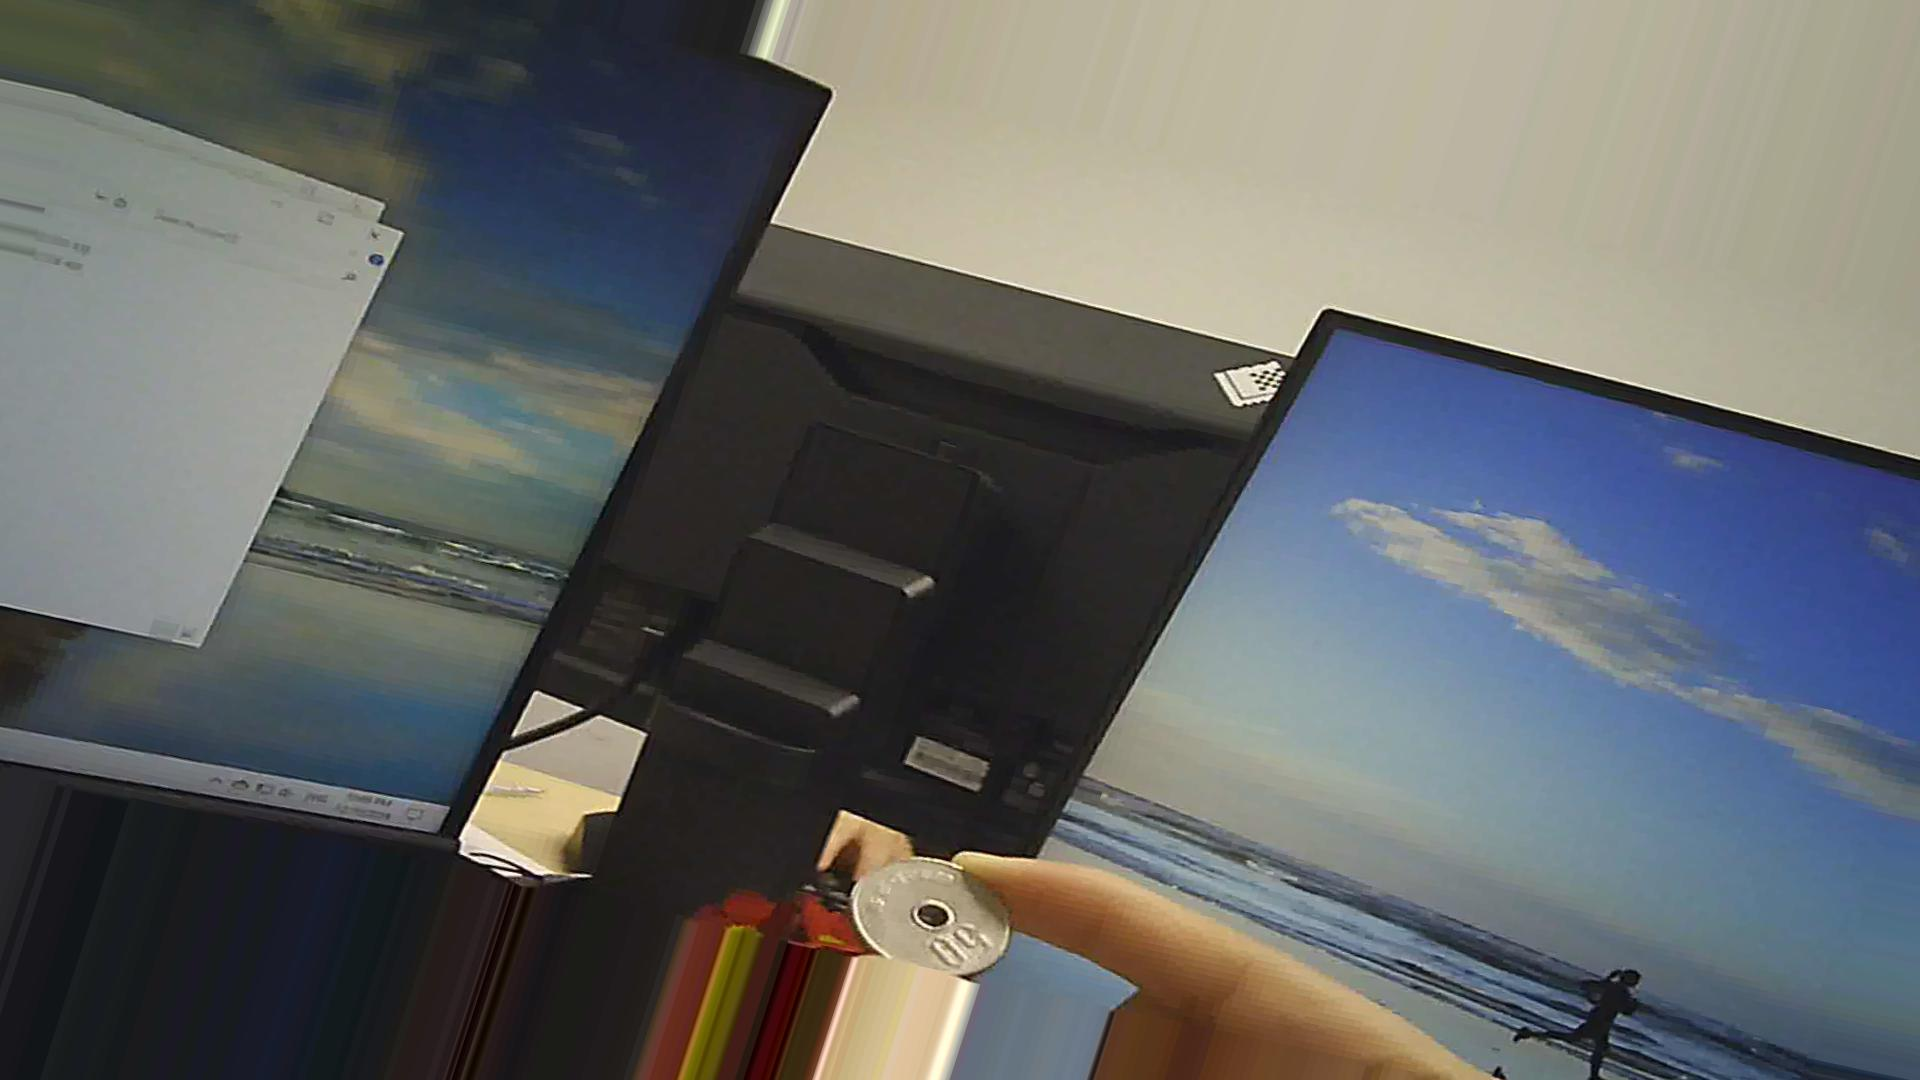50 Yen: (851, 849, 1015, 992)
